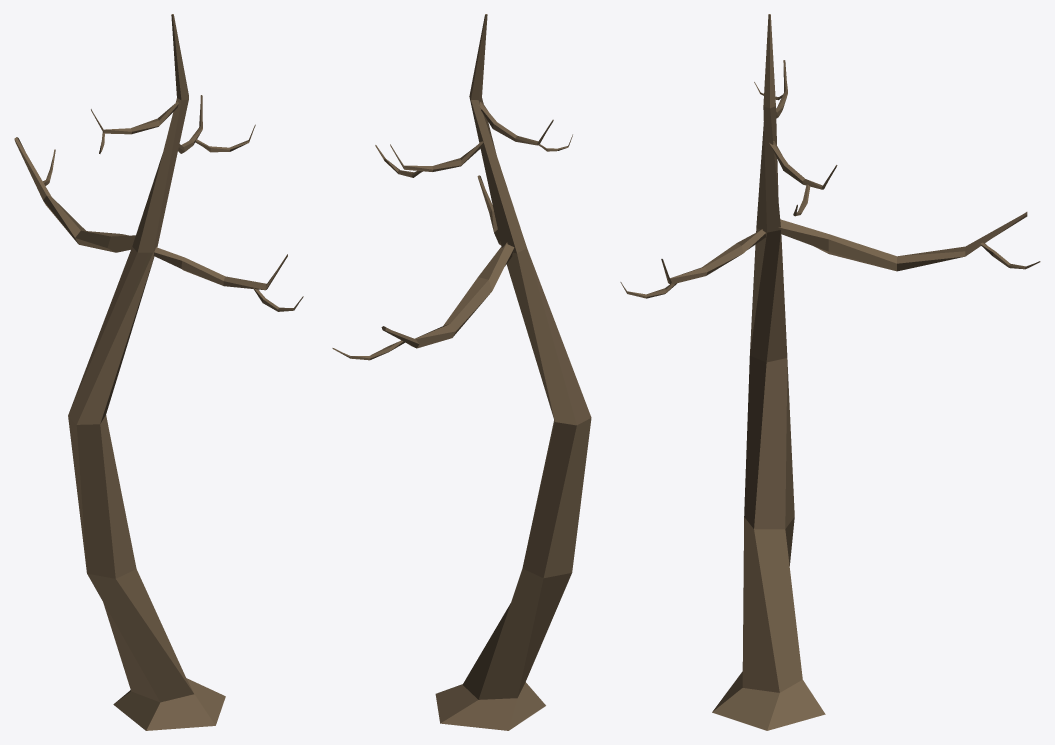
Rendered from EmptyTree.fbx.
The picture shows the model from 3 angles, left to right: view 1: azimuth 30°, elevation 25°; view 2: azimuth 150°, elevation 25°; view 3: azimuth 270°, elevation 25°; orthographic projection.
Visible parts, largest first — view 1: EmptyTree; view 2: EmptyTree; view 3: EmptyTree.
Part boxes in pixels (<box>): EmptyTree: <box>14,14,303,730</box>; EmptyTree: <box>332,14,591,730</box>; EmptyTree: <box>620,14,1040,730</box>.
Size of the model in its own units: 56.75 by 190 by 105.
